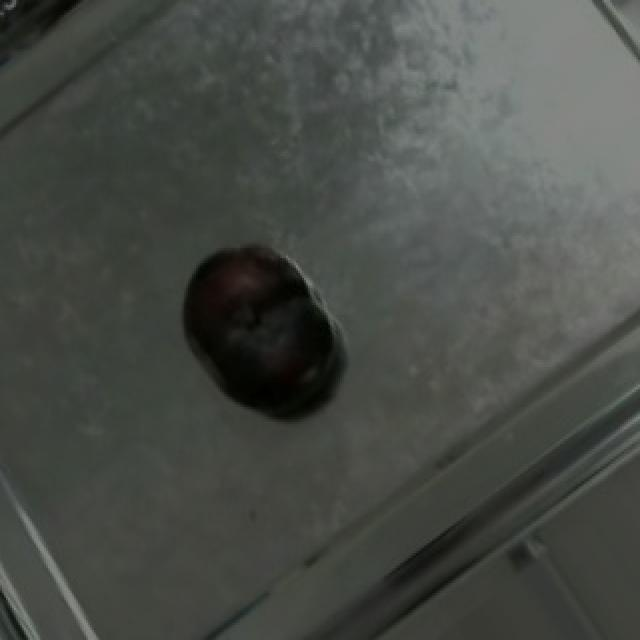Fruit: (164, 223, 342, 422)
